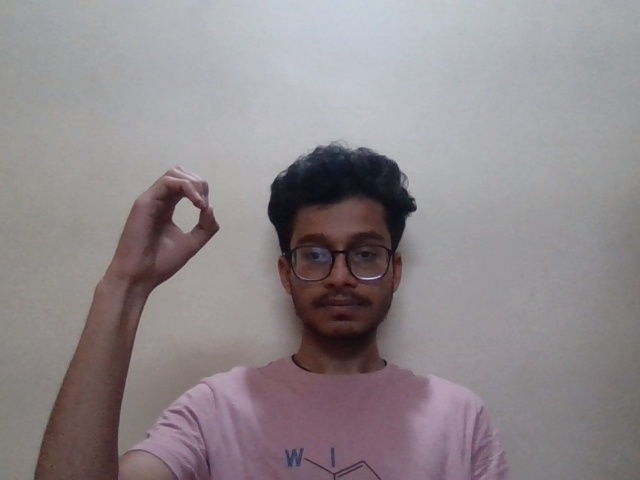O: (112, 161, 225, 289)
